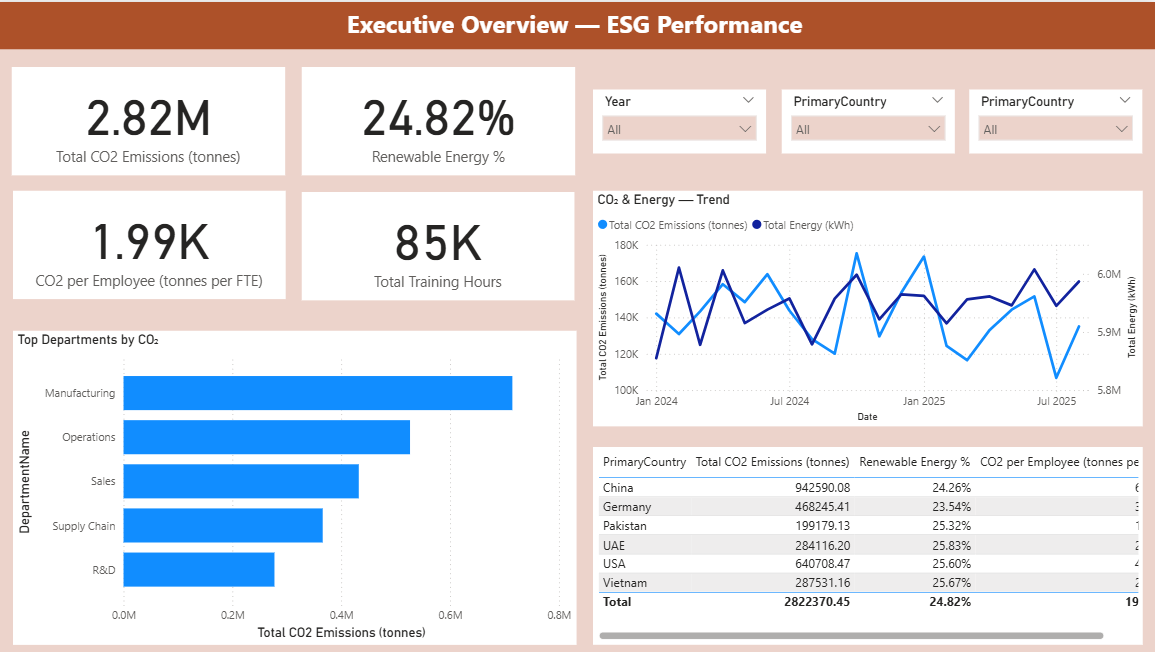

The page's visual inventory and layout, read from the dashboard file:
{"tool":"powerbi","page":{"name":"Executive Overview","canvas":[1280,720],"ordinal":0},"visuals":[{"type":"textbox","box":[0,0,1280,52.2],"z":0},{"type":"card","fields":{"Values":["Fact Emissions.Total CO2 Emissions (tonnes)"]},"box":[20.2,72.1,300.7,119.3],"z":1000},{"type":"card","fields":{"Values":["Fact Emissions.Renewable Energy %"]},"box":[340.1,72.1,300.7,119.3],"z":2000},{"type":"card","fields":{"Values":["Fact Emissions.CO2 per Employee (tonnes per FTE)"]},"box":[21.9,207,299.8,119.6],"z":3000},{"type":"card","fields":{"Values":["Fact Social.Total Training Hours"]},"box":[340.3,208.7,299.8,119.6],"z":4000},{"type":"tableEx","fields":{"Values":["dim_Regions.PrimaryCountry","Fact Emissions.Total CO2 Emissions (tonnes)","Fact Emissions.Renewable Energy %","Fact Emissions.CO2 per Employee (tonnes per FTE)"]},"box":[660.2,490.1,604.6,217.3],"z":5000},{"type":"lineChart","title":"CO₂ & Energy — Trend","fields":{"Category":["Date.Date"],"Y":["Fact Emissions.Total CO2 Emissions (tonnes)"],"Y2":["Fact Emissions.Total Energy (kWh)"]},"box":[660.3,207,604.6,259.4],"z":6000},{"type":"clusteredBarChart","title":"Top Departments by CO₂","fields":{"Category":["Departments.DepartmentName"],"Y":["Fact Emissions.Total CO2 Emissions (tonnes)"]},"box":[21.9,362.1,619.8,345.3],"z":7000},{"type":"slicer","fields":{"Values":["Date.Year"]},"box":[660.3,95.9,190,70.7],"z":8000},{"type":"slicer","fields":{"Values":["dim_Regions.PrimaryCountry"]},"box":[867.3,95.9,190.3,70.7],"z":9000},{"type":"slicer","fields":{"Values":["dim_Regions.PrimaryCountry"]},"box":[1074.6,95.9,190.3,70.7],"z":10000}]}

Visuals, with their boxes in screenshot pixels (x1, y1, x2, y2), scaled from the page's 1280x720 canvas onto the 1155x652 screenshot:
textbox: select_region(0, 0, 1154, 47)
card - Fact Emissions.Total CO2 Emissions (tonnes): select_region(18, 65, 290, 173)
card - Fact Emissions.Renewable Energy %: select_region(307, 65, 578, 173)
card - Fact Emissions.CO2 per Employee (tonnes per FTE): select_region(20, 187, 290, 296)
card - Fact Social.Total Training Hours: select_region(307, 189, 578, 297)
tableEx - dim_Regions.PrimaryCountry x Fact Emissions.Total CO2 Emissions (tonnes): select_region(596, 444, 1141, 641)
"CO₂ & Energy — Trend" lineChart: select_region(596, 187, 1141, 422)
"Top Departments by CO₂" clusteredBarChart: select_region(20, 328, 579, 641)
slicer - Date.Year: select_region(596, 87, 767, 151)
slicer - dim_Regions.PrimaryCountry: select_region(783, 87, 954, 151)
slicer - dim_Regions.PrimaryCountry: select_region(970, 87, 1141, 151)
